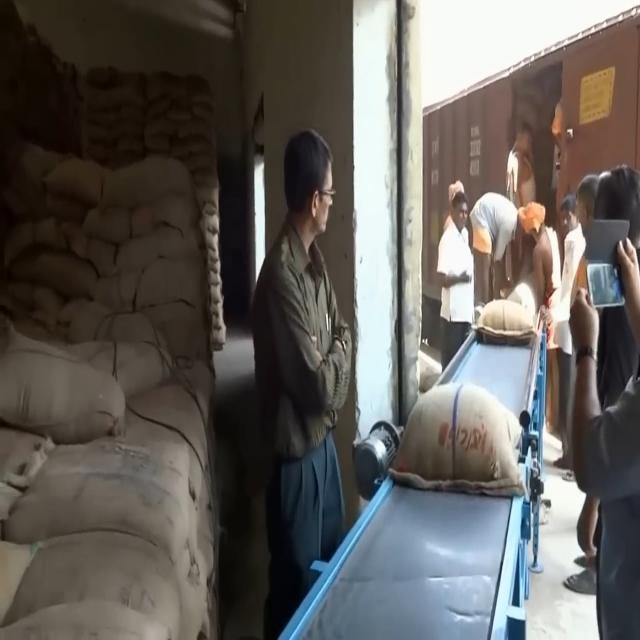gunny_bag: (1, 529, 182, 640), (6, 467, 204, 565), (382, 378, 534, 502), (0, 322, 124, 444), (70, 340, 174, 396), (108, 144, 196, 210), (9, 244, 100, 304), (112, 222, 198, 274), (130, 250, 202, 309), (464, 293, 542, 347), (37, 153, 107, 204), (85, 199, 133, 246)
